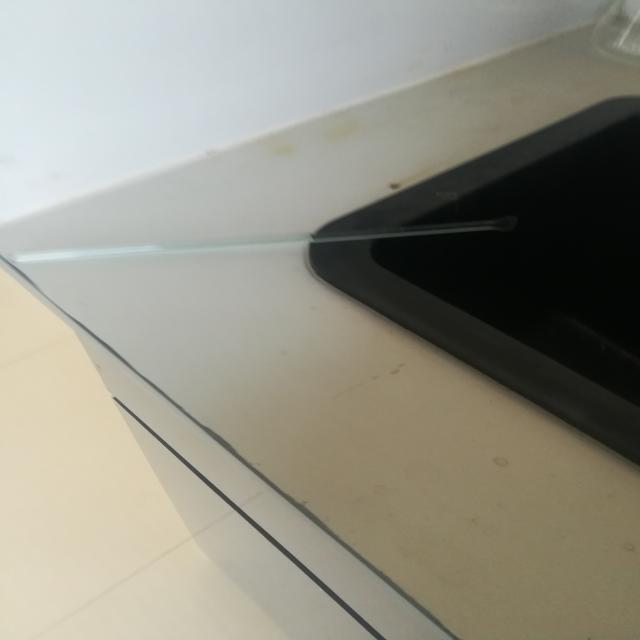Glass_Rod: (0, 213, 542, 283)
